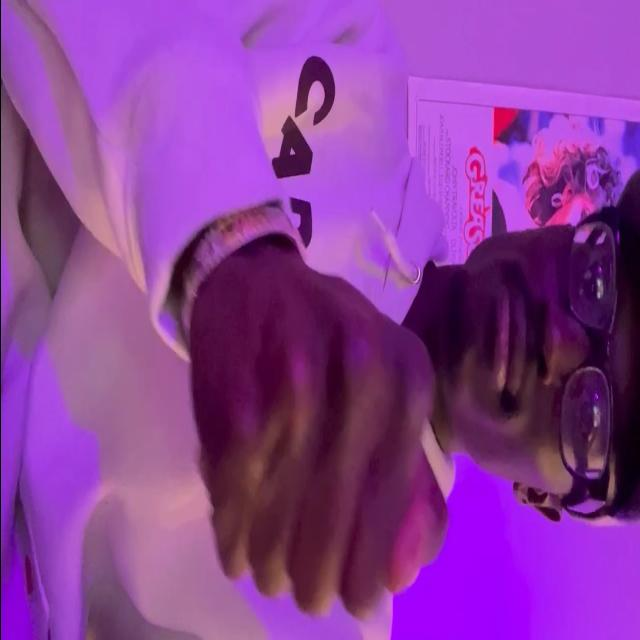Rock: (192, 256, 446, 616)
